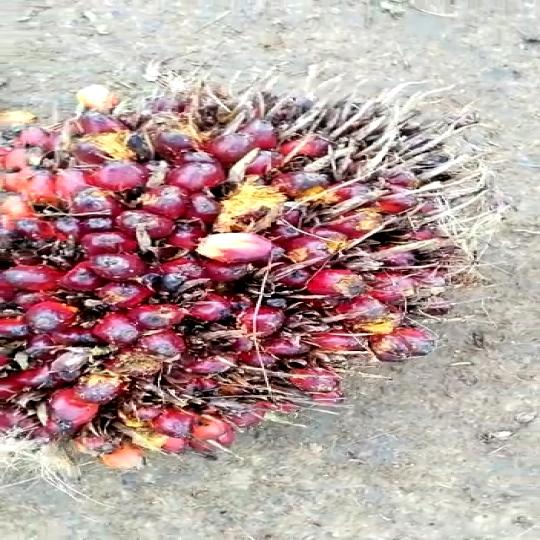masak: (0, 86, 497, 475)
